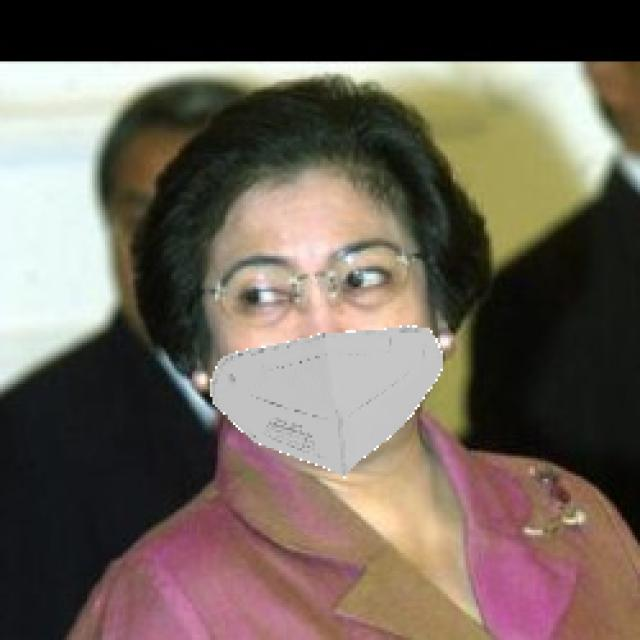mask: (194, 330, 477, 470)
